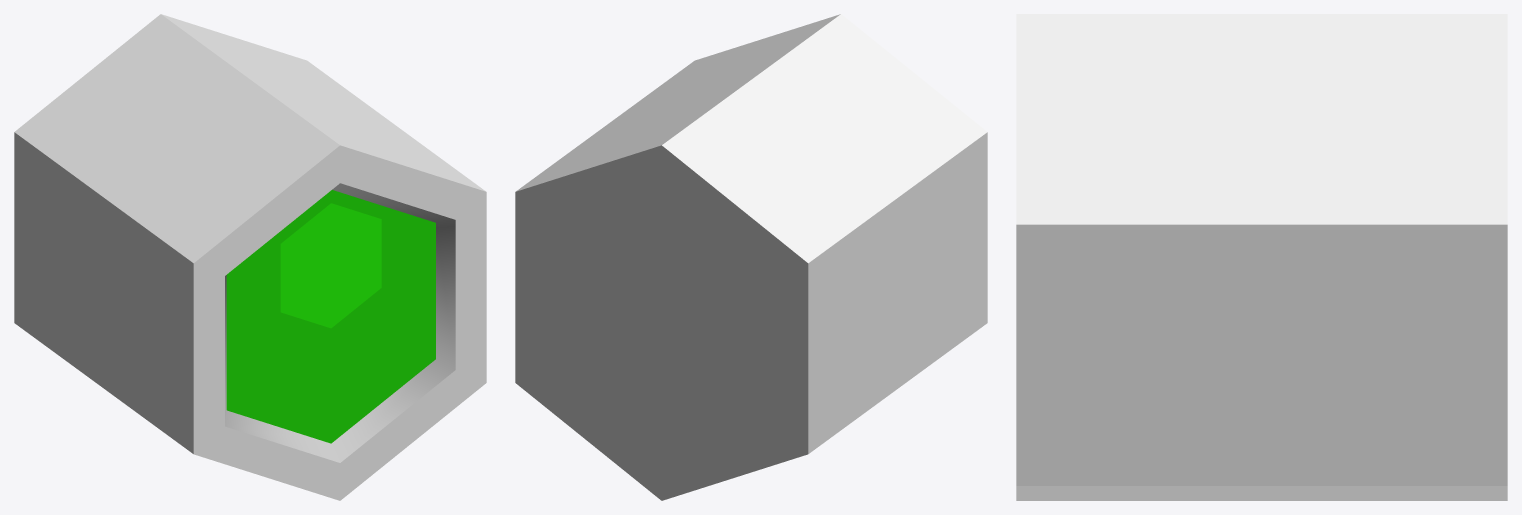
The model's file is D_FBX_06_Bumper_02.fbx.
3 views of the same model, side by side, from view 1: azimuth 30°, elevation 25°; view 2: azimuth 150°, elevation 25°; view 3: azimuth 270°, elevation 25° (orthographic). The views are drawn at different scales.
Visible parts, largest first — view 1: D_FBX_06_Bumper_02; view 2: D_FBX_06_Bumper_02; view 3: D_FBX_06_Bumper_02.
Part boxes in pixels (x1,y1,x2,y2): D_FBX_06_Bumper_02: [14, 14, 486, 500]; D_FBX_06_Bumper_02: [515, 14, 987, 500]; D_FBX_06_Bumper_02: [1016, 14, 1507, 500].
Bounding box in the file's own units: 170 × 197 × 180.
